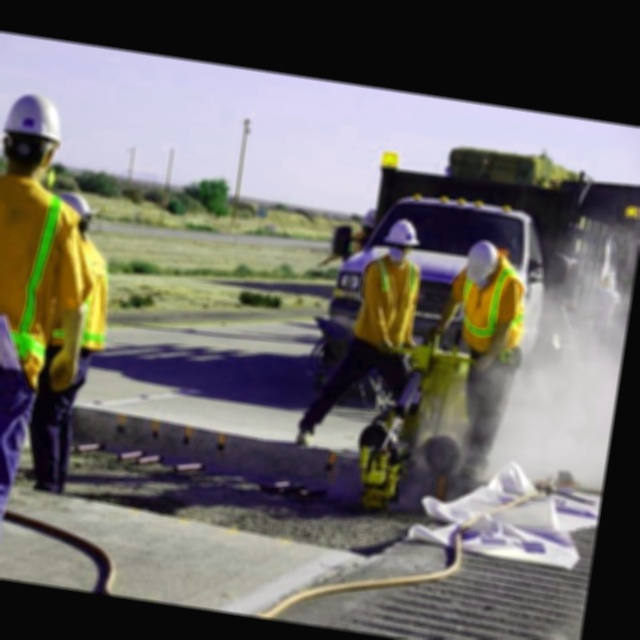Con_Casco: (0, 90, 65, 185), (462, 238, 501, 290), (382, 217, 422, 263)
Con_Chaleco: (0, 171, 84, 382), (355, 257, 427, 347)
